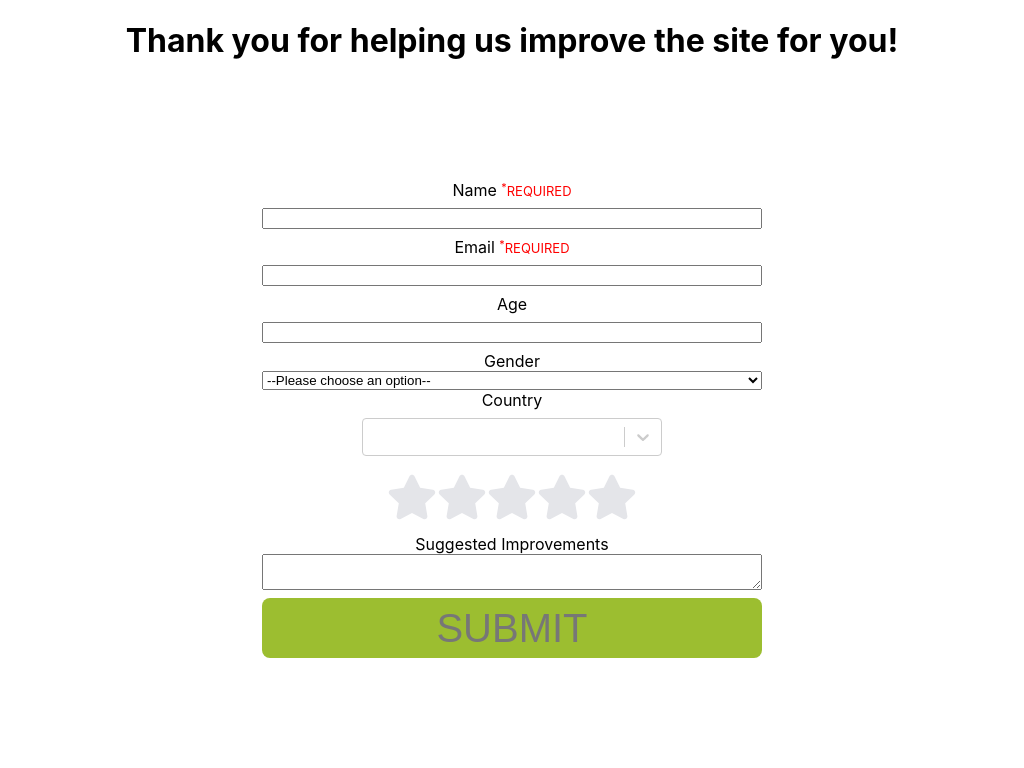
Test: Survey testing › should show error messages if the email is not valid
Type "miguel" into the field labelled "Name *REQUIRED" at x=512, y=219, box [262,208,762,229]
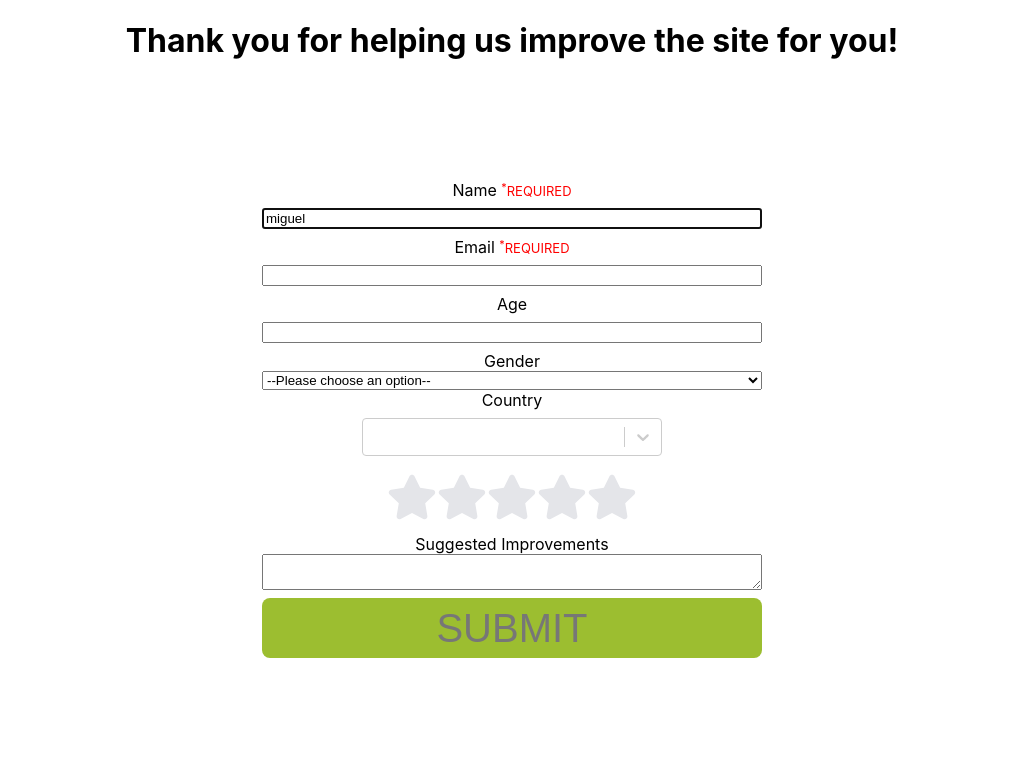
Type "miguelgmail.test" into the field labelled "Email *REQUIRED" at x=512, y=276, box [262,265,762,286]
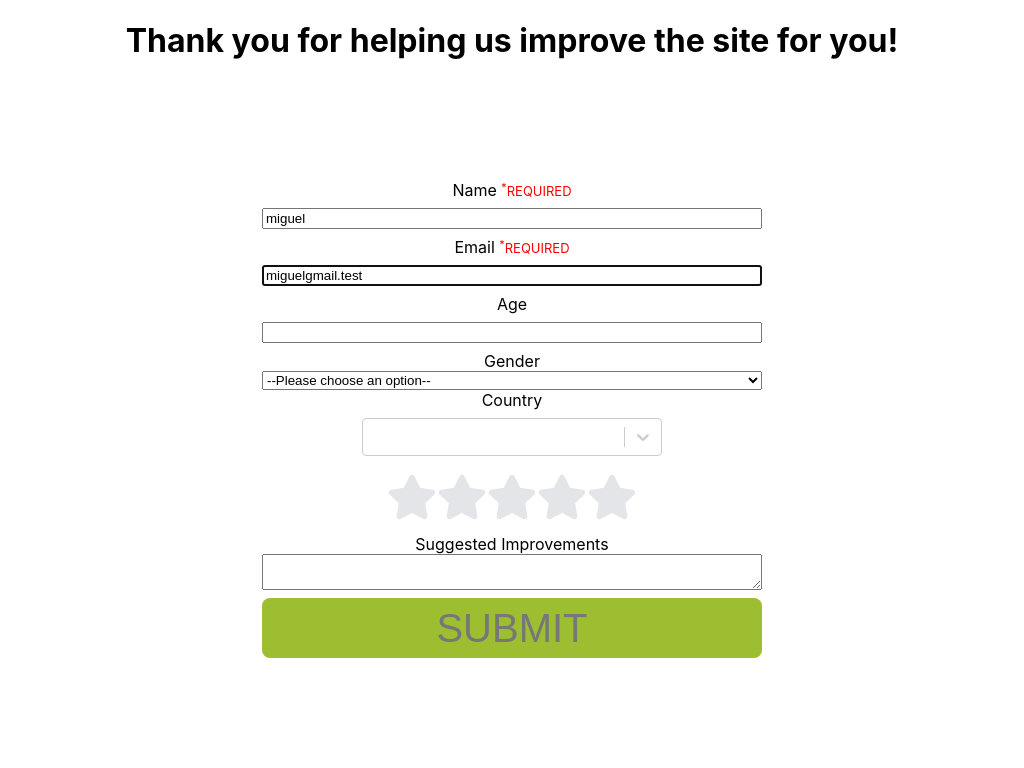
Click the button at x=512, y=628, box [262,598,762,658]
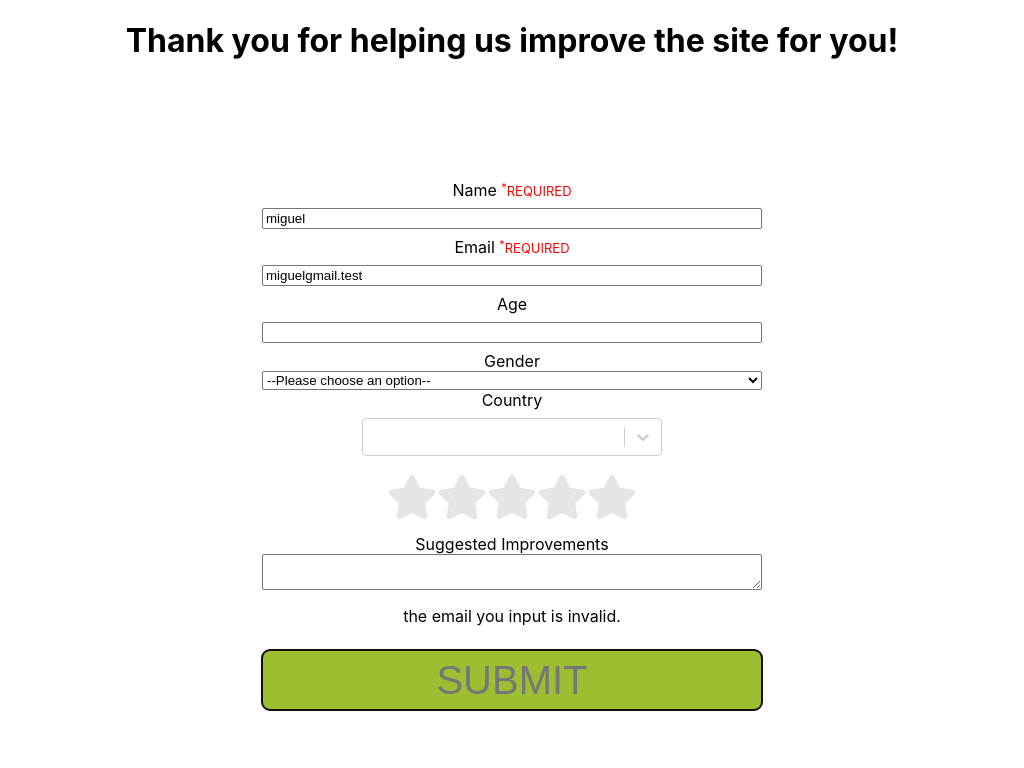
Expected: the text "the email you input is invalid." is shown, [403,606,621,626]
